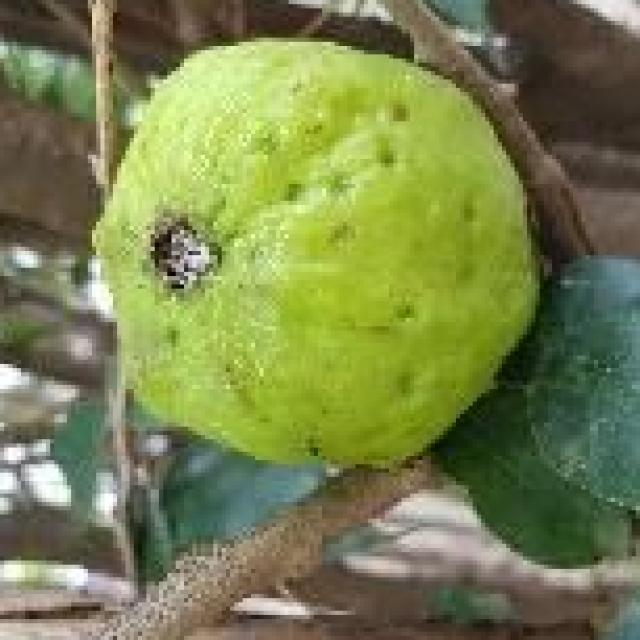Good_Guava 5-7 days: (94, 42, 540, 463)
